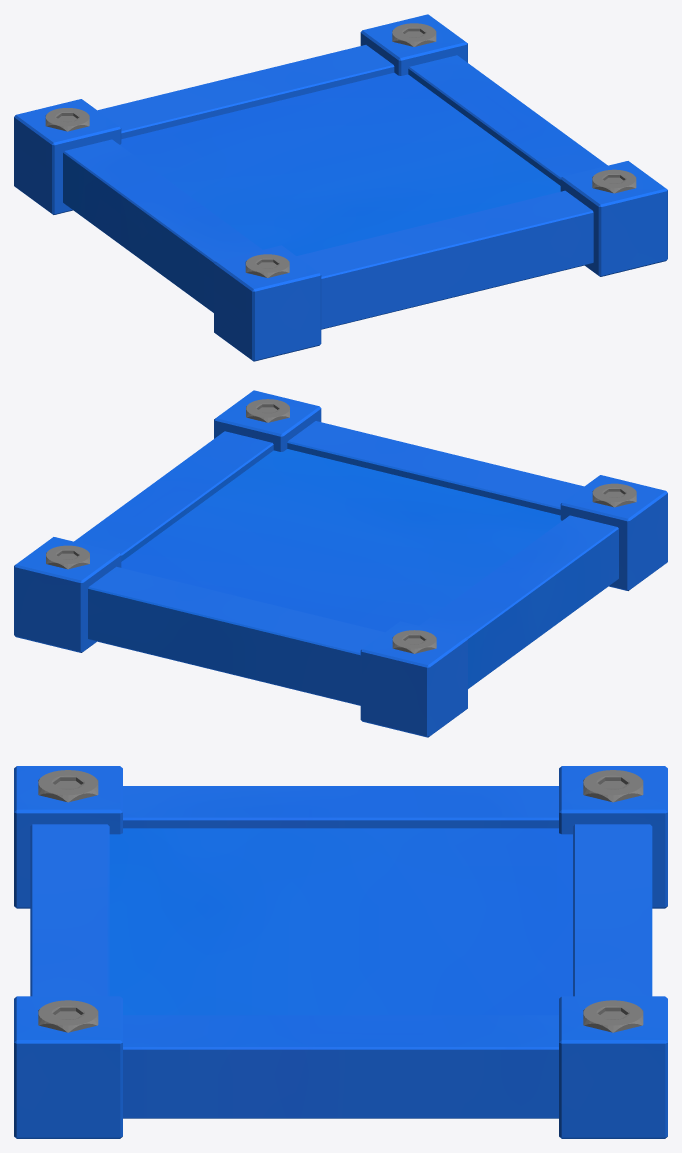
Rendered from SquareFramedPlatformBlue.fbx.
3 renders of one model, top to bottom at view 1: azimuth 30°, elevation 25°; view 2: azimuth 150°, elevation 25°; view 3: azimuth 270°, elevation 25°, orthographic. The views are drawn at different scales.
Visible parts, largest first — view 1: Cube, Cube.001; view 2: Cube, Cube.001; view 3: Cube, Cube.001.
Part boxes in pixels (box(x1,y1,x2,y2)): Cube: box(14, 14, 667, 361); Cube.001: box(45, 23, 636, 277); Cube: box(14, 390, 667, 737); Cube.001: box(46, 399, 636, 653); Cube: box(14, 766, 667, 1138); Cube.001: box(38, 770, 643, 1032).
Bounding box in the file's own units: 6 × 1.05 × 6.
